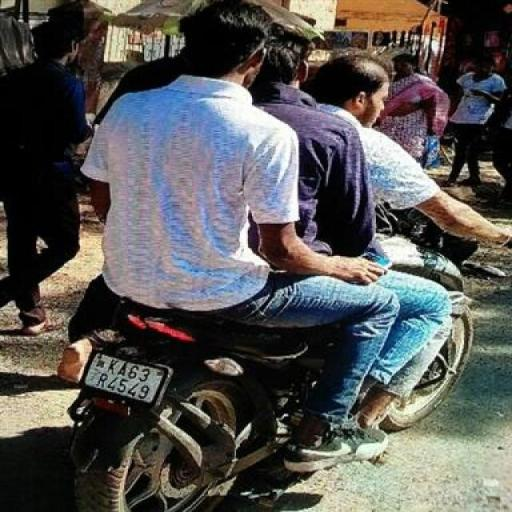tripple riding: (76, 0, 474, 335)
